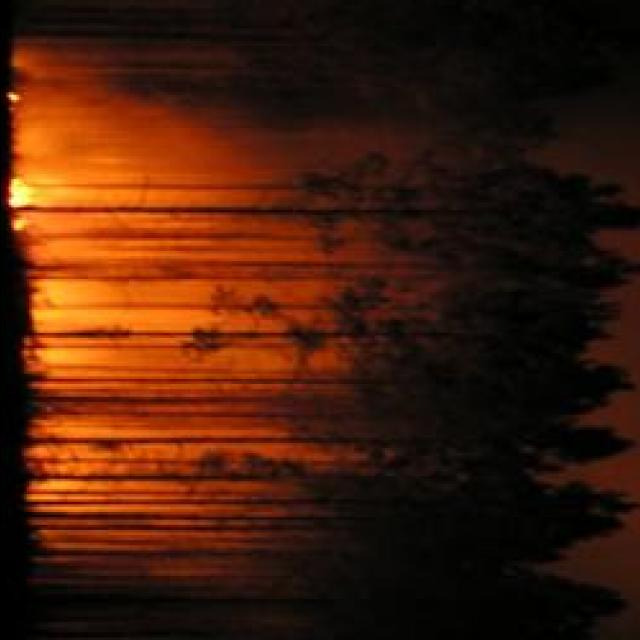fire: (8, 180, 31, 210), (8, 216, 28, 230), (6, 92, 20, 102)
